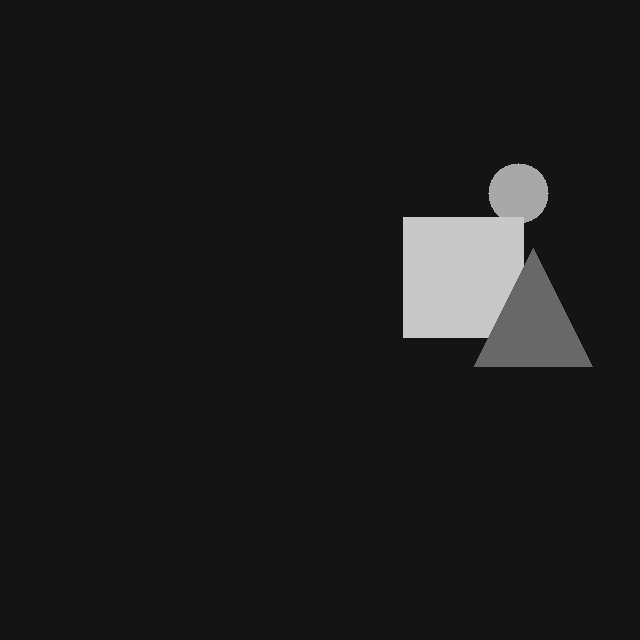circle: (488, 163, 548, 223)
square: (403, 217, 523, 337)
triangle: (474, 248, 592, 366)
